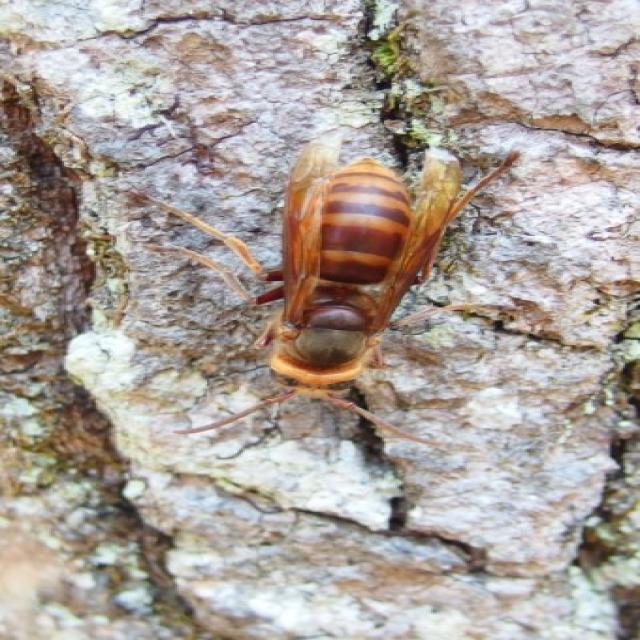Wasp: (126, 140, 508, 450)
